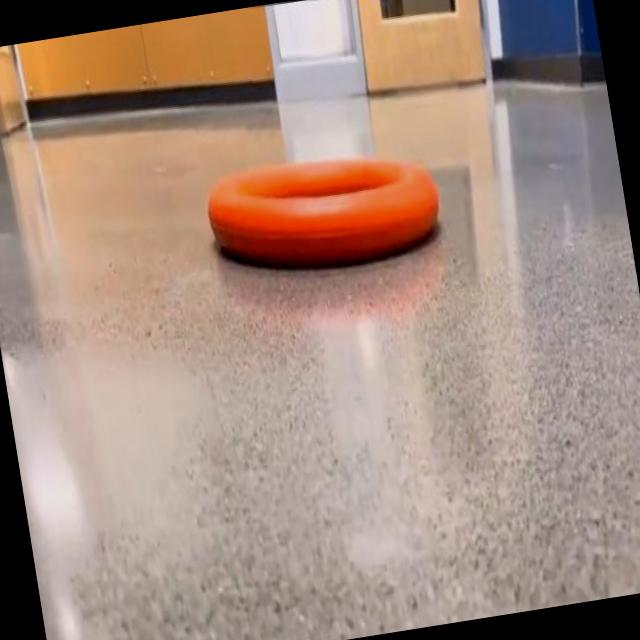note: (208, 159, 439, 266)
